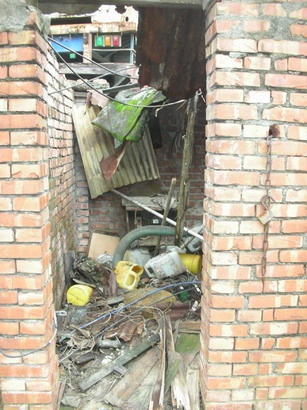bucket: (112, 260, 144, 292)
